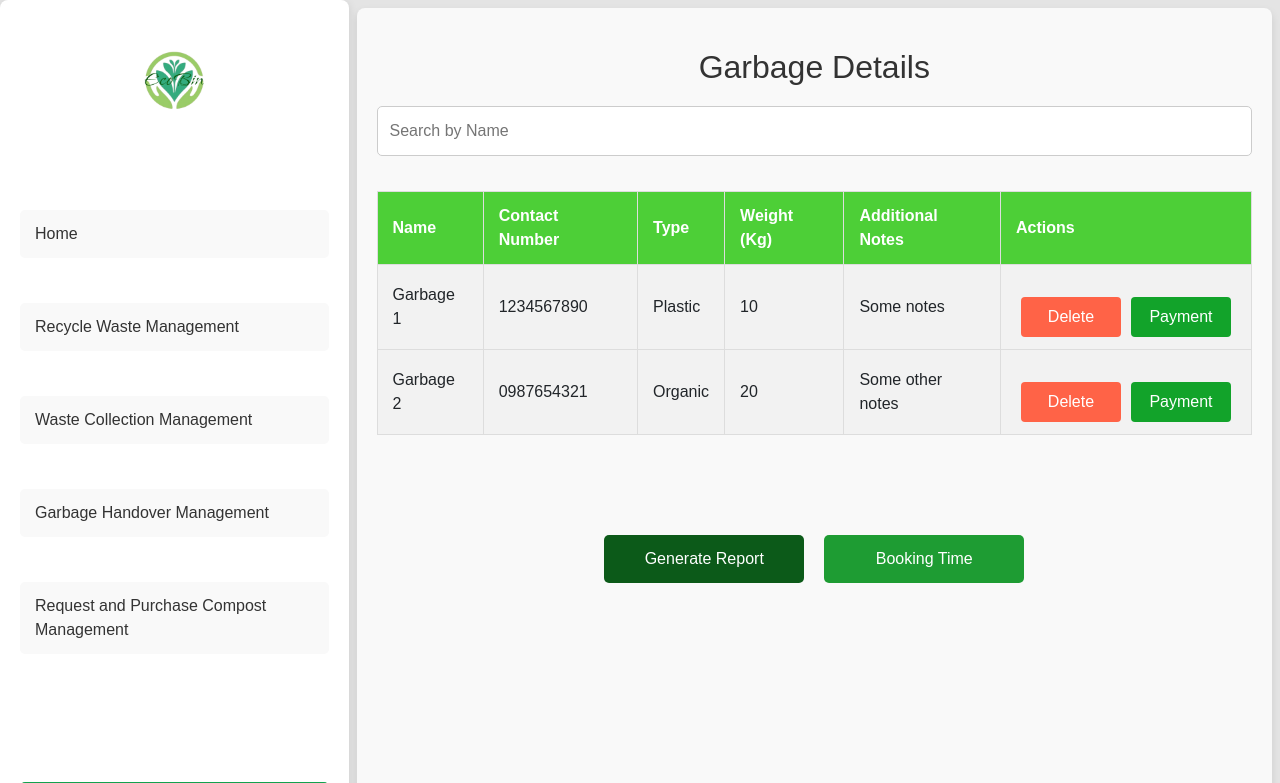
SeeGarbageDetails Component › successfully deletes garbage detail
Expected: the text "Garbage 1" is shown, [377,265,483,350]
Click the button "Delete" in the row of "Garbage 1" at (1071, 317), box [1021,297,1121,337]
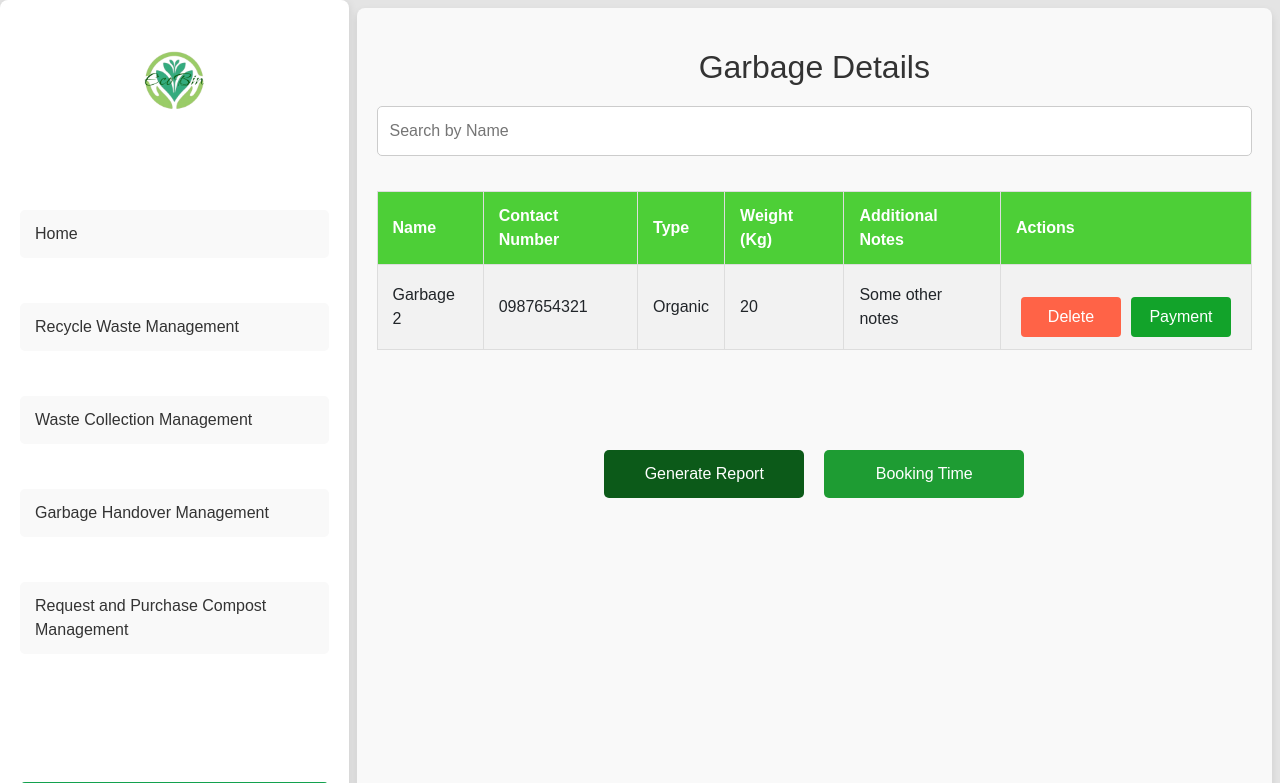
Expected: the text "Garbage 1" is gone
